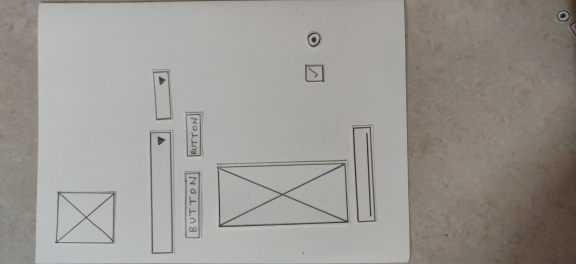button: (183, 170, 203, 239), (184, 113, 202, 160)
checkbox: (302, 64, 326, 82)
dropdown: (145, 130, 177, 251), (153, 69, 174, 120)
img: (216, 163, 347, 224), (56, 191, 119, 245)
radio: (304, 30, 325, 49)
text: (350, 126, 378, 223)
